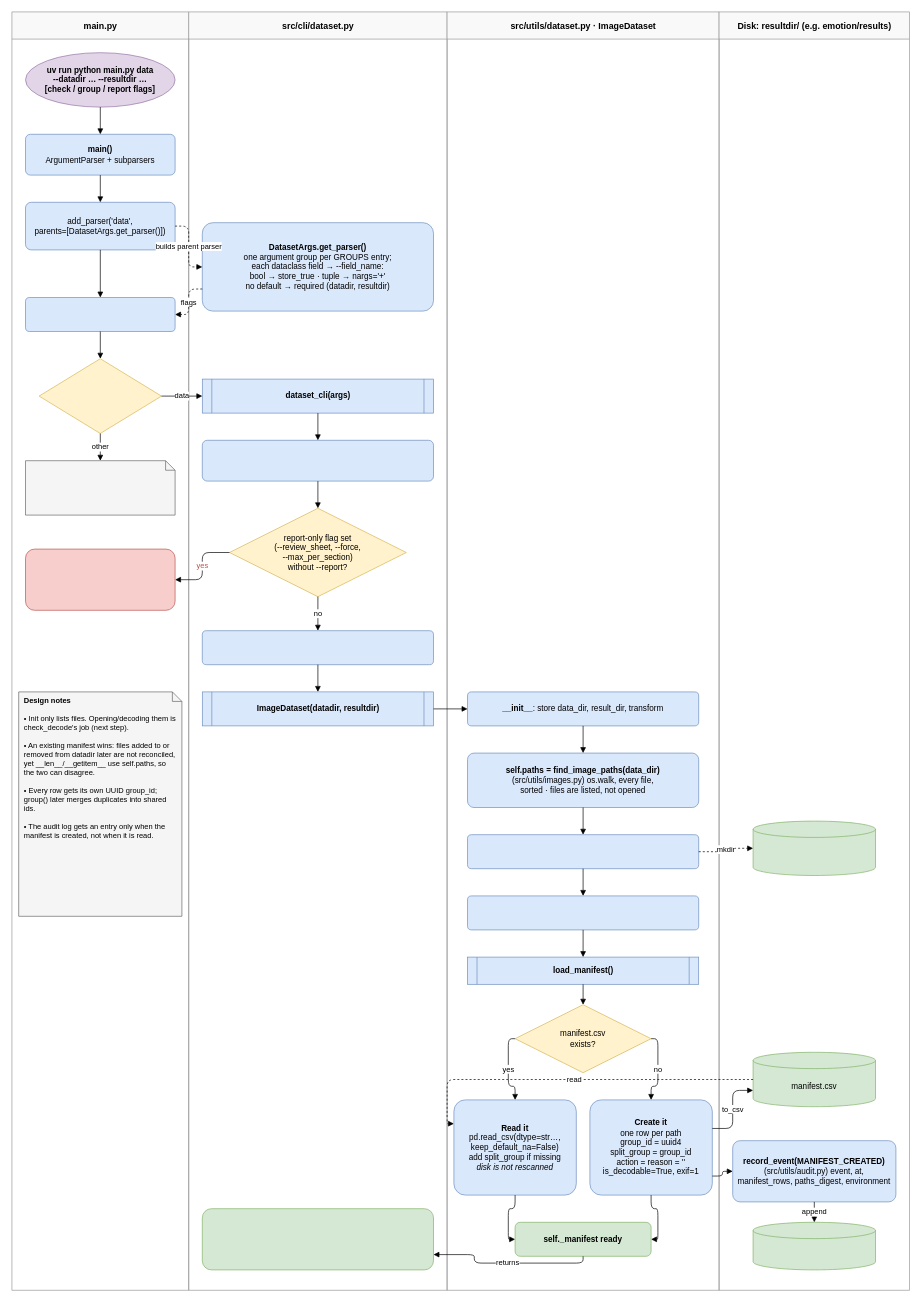
Image size: 921x1302. Some labels were removed from this diagram. Each missing label, with the centre of its shape:
"_manifest_path = manifest.csv _audit_path = audits.json" belongs at [583,912].
"args.command?" belongs at [100,396].
"audits.json (appended)" belongs at [814,1246].
"cls → classification_cli() seg → NotImplementedError none → print_help()" belongs at [100,487].
"dataset ready → next diagram: --restart → enabled checks in order → --report" belongs at [318,1239].
"DatasetArgs.from_namespace(args) keep only dataclass fields; lists → tuples" belongs at [318,460].
"embeddings/" belongs at [814,848].
"makedirs(resultdir/embeddings) (also creates resultdir)" belongs at [583,851].
"parser.parse_args() → Namespace" belongs at [100,314].
"print datadir / resultdir" belongs at [318,647].
"SystemExit '--review_sheet, --force … only apply to the report; add --report.'" belongs at [100,579].
